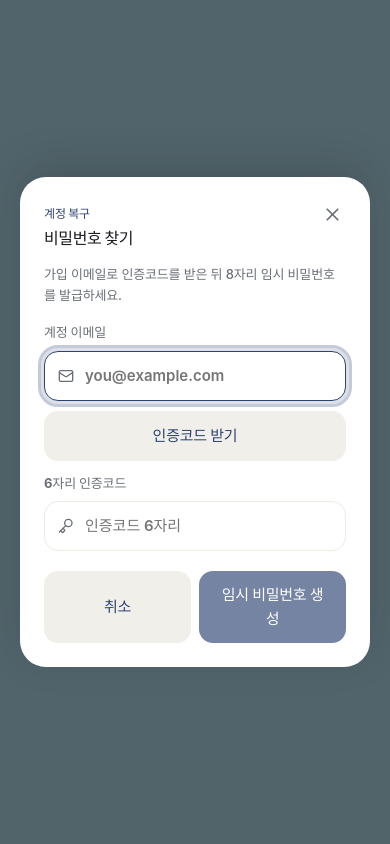
Scenario: ForgotPasswordModal › 올바르지 않은 이메일은 외부 요청 전에 안내한다
The width and height of the screenshot is (390, 844).
Type "invalid-email" into the field labelled "계정 이메일".
click(195, 376); type("invalid-email")  # box [44,351,346,401]
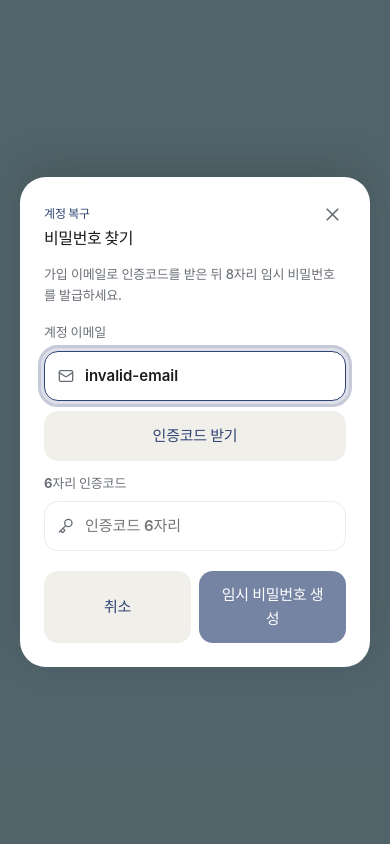
Click the button "인증코드 받기".
click(195, 436)  # box [44,411,346,461]
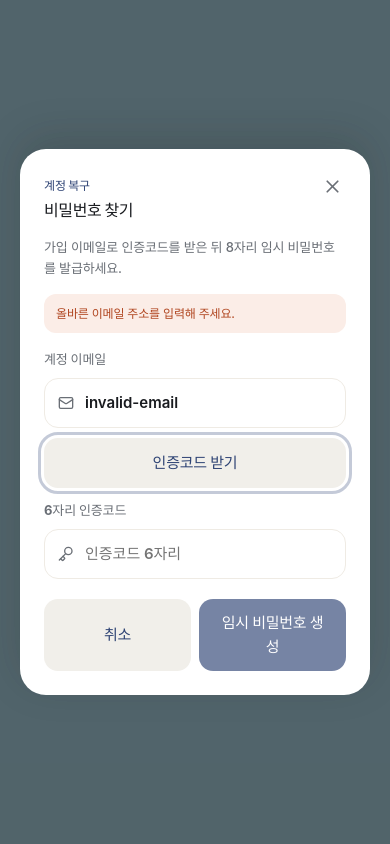
Now the message shows "올바른 이메일 주소를 입력해 주세요", box [56,306,235,321]
